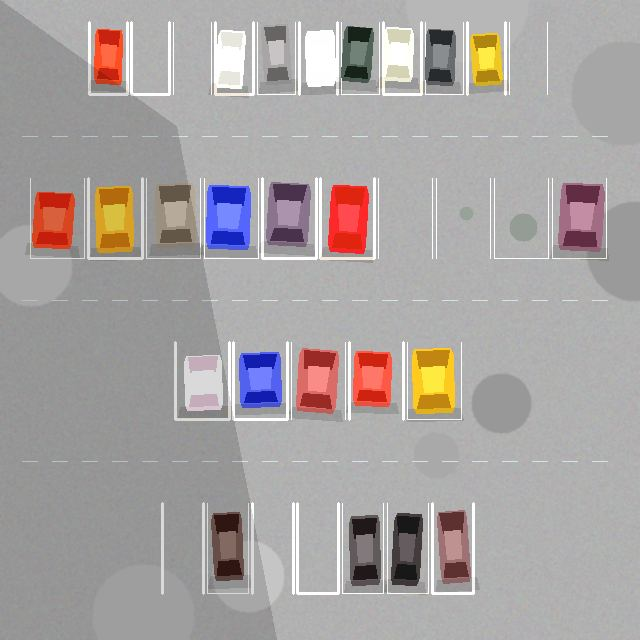space-empty: (378, 178, 432, 258), (436, 178, 490, 258), (494, 178, 548, 258), (162, 503, 203, 593), (252, 503, 293, 593), (297, 503, 338, 593), (131, 22, 169, 94), (173, 22, 211, 94), (509, 22, 547, 94)
space-occupied: (30, 178, 84, 258), (88, 178, 142, 258), (146, 178, 200, 258), (204, 178, 258, 258), (262, 178, 316, 258), (320, 178, 374, 258), (552, 178, 606, 258), (175, 342, 229, 419), (233, 342, 287, 419), (291, 342, 345, 419), (349, 342, 403, 419), (407, 342, 461, 419), (207, 503, 248, 593), (342, 503, 383, 593), (387, 503, 428, 593), (432, 503, 473, 593), (89, 22, 127, 94), (215, 22, 253, 94), (257, 22, 295, 94), (299, 22, 337, 94), (341, 22, 379, 94), (383, 22, 421, 94), (425, 22, 463, 94), (467, 22, 505, 94)
